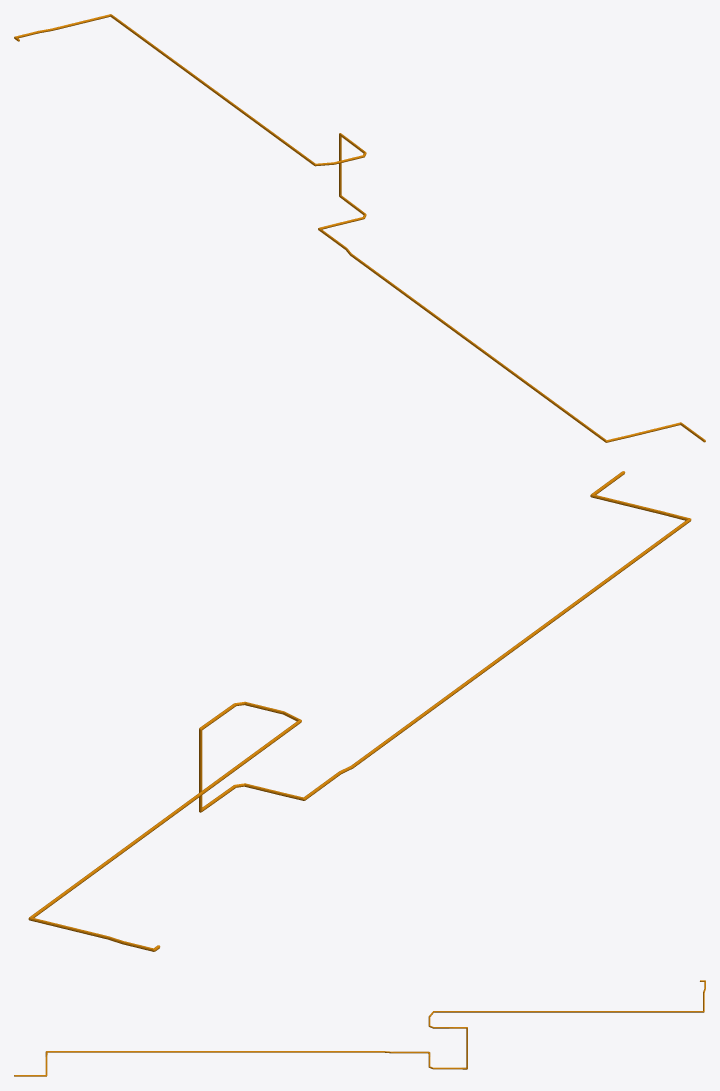
3 views of the same model, one above another, from view 1: azimuth 30°, elevation 25°; view 2: azimuth 150°, elevation 25°; view 3: azimuth 270°, elevation 25° (orthographic). The views are drawn at different scales.
Size of the model in its own units: 1436 by 520 by 7687.
